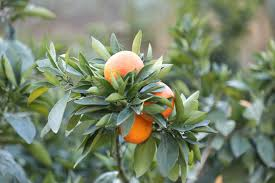orange: (101, 46, 146, 89), (115, 104, 154, 145), (137, 79, 175, 119)
